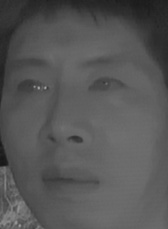eye: (86, 73, 127, 98), (14, 76, 49, 97)
mouth: (34, 160, 105, 198)
